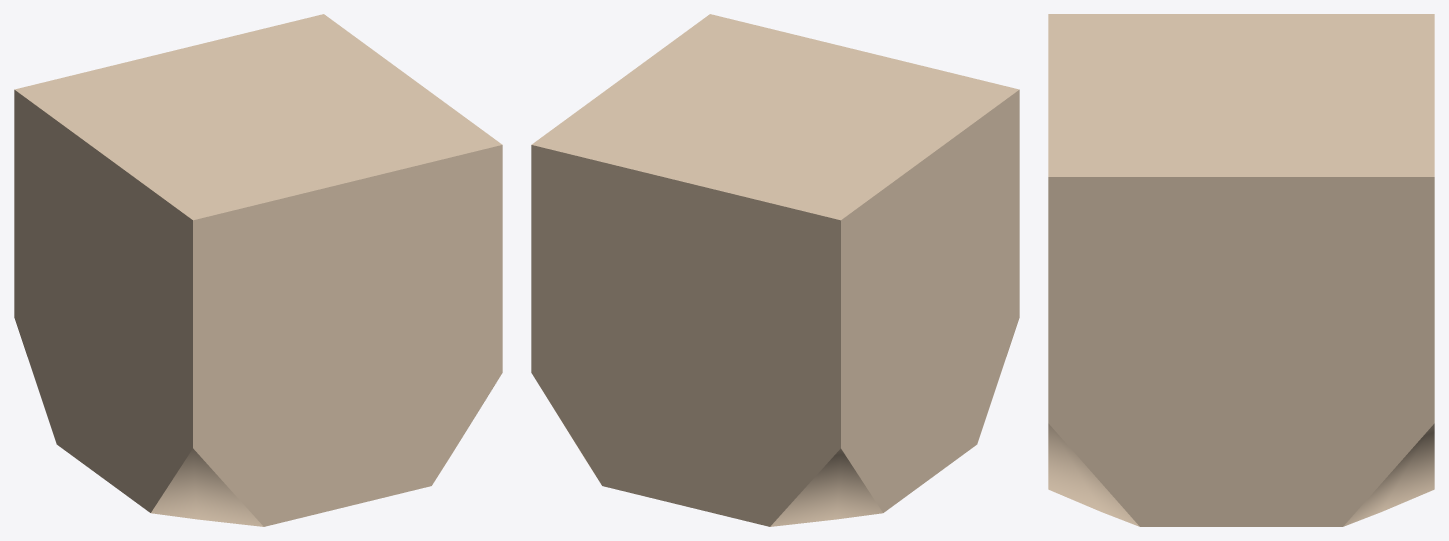
The model's file is cube_beveled.fbx.
3 views of the same model, side by side, from view 1: azimuth 30°, elevation 25°; view 2: azimuth 150°, elevation 25°; view 3: azimuth 270°, elevation 25° (orthographic). The views are drawn at different scales.
Visible parts, largest first — view 1: cube_beveled; view 2: cube_beveled; view 3: cube_beveled.
Part boxes in pixels (x1,y1,x2,y2): cube_beveled: (14,14,502,526); cube_beveled: (531,14,1019,526); cube_beveled: (1048,14,1434,526).
Size of the model in its own units: 100 by 100 by 100.
